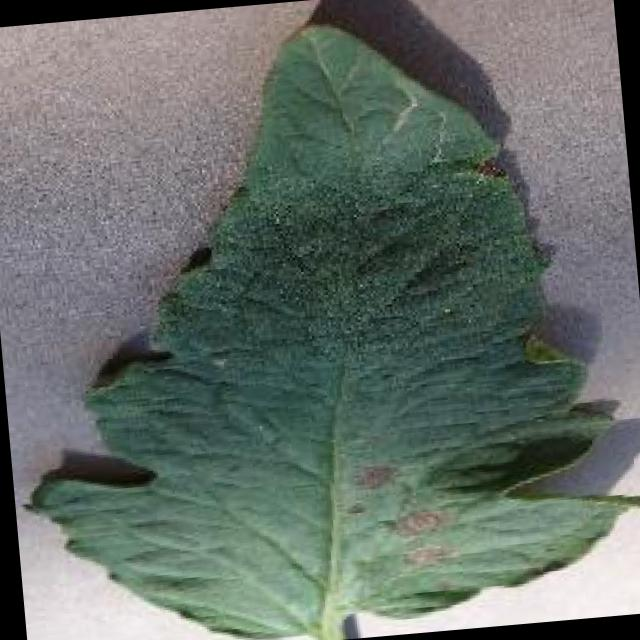Tomato_Early_Blight: (328, 350, 606, 599)
